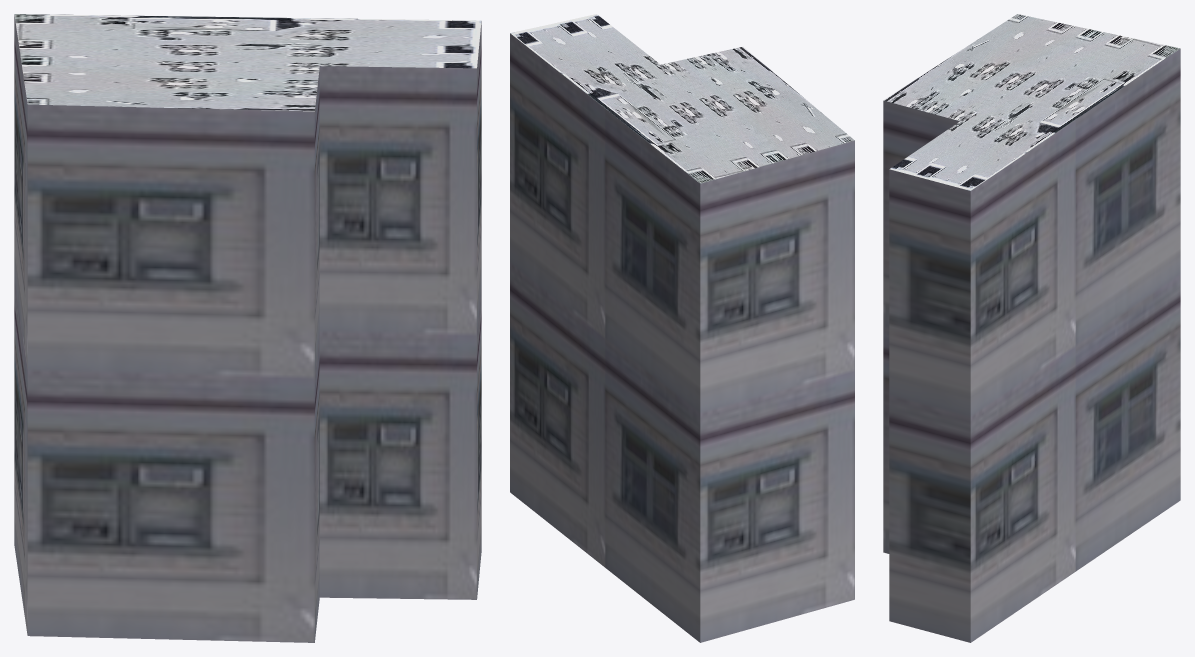
The model's file is ResTex__2235.fbx.
The picture shows the model from 3 angles, left to right: view 1: azimuth 30°, elevation 25°; view 2: azimuth 150°, elevation 25°; view 3: azimuth 270°, elevation 25°; orthographic projection. The views are drawn at different scales.
Visible parts, largest first — view 1: CityEngineMaterial_1_m, CityEngineMaterial_8_m; view 2: CityEngineMaterial_1_m, CityEngineMaterial_8_m; view 3: CityEngineMaterial_1_m, CityEngineMaterial_8_m.
Part boxes in pixels (bbox=[...]): CityEngineMaterial_1_m: bbox=[14, 15, 481, 642]; CityEngineMaterial_8_m: bbox=[14, 14, 481, 111]; CityEngineMaterial_1_m: bbox=[510, 33, 854, 642]; CityEngineMaterial_8_m: bbox=[510, 14, 854, 183]; CityEngineMaterial_1_m: bbox=[883, 48, 1180, 642]; CityEngineMaterial_8_m: bbox=[883, 14, 1180, 190].
Bounding box in the file's own units: 5.04 × 6 × 3.58.
Materials: 2 (2 with a texture image).
